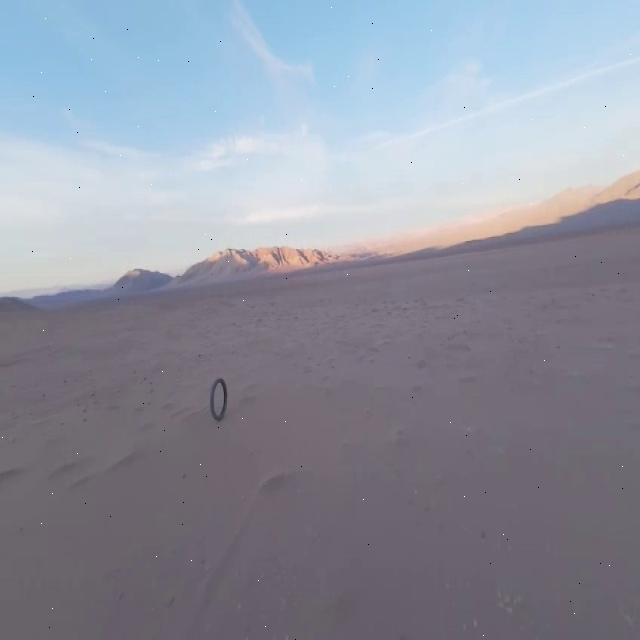Tire: (210, 378, 227, 419)
